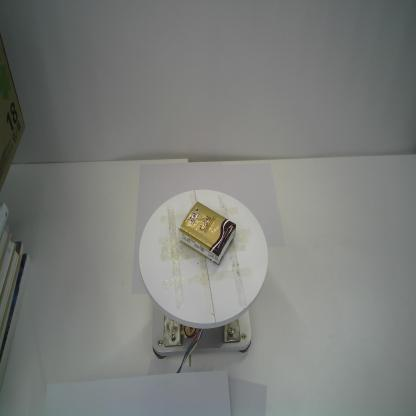Tissue: (178, 201, 237, 265)
